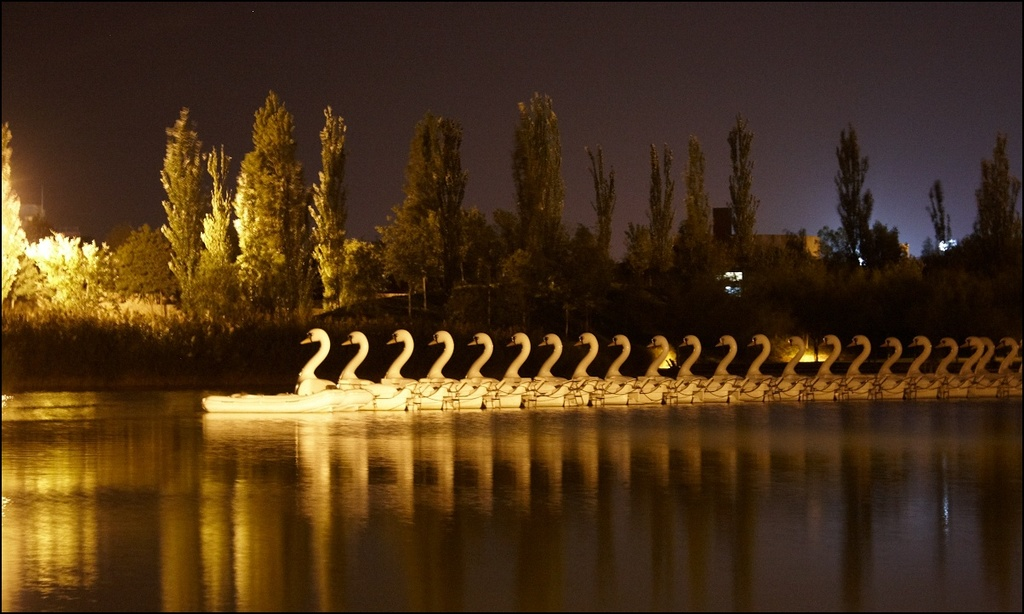Tree: (145, 90, 350, 329), (375, 112, 487, 296), (508, 93, 598, 270), (827, 122, 882, 264), (722, 115, 770, 267), (967, 130, 1023, 255), (0, 119, 29, 315), (677, 121, 715, 270)
